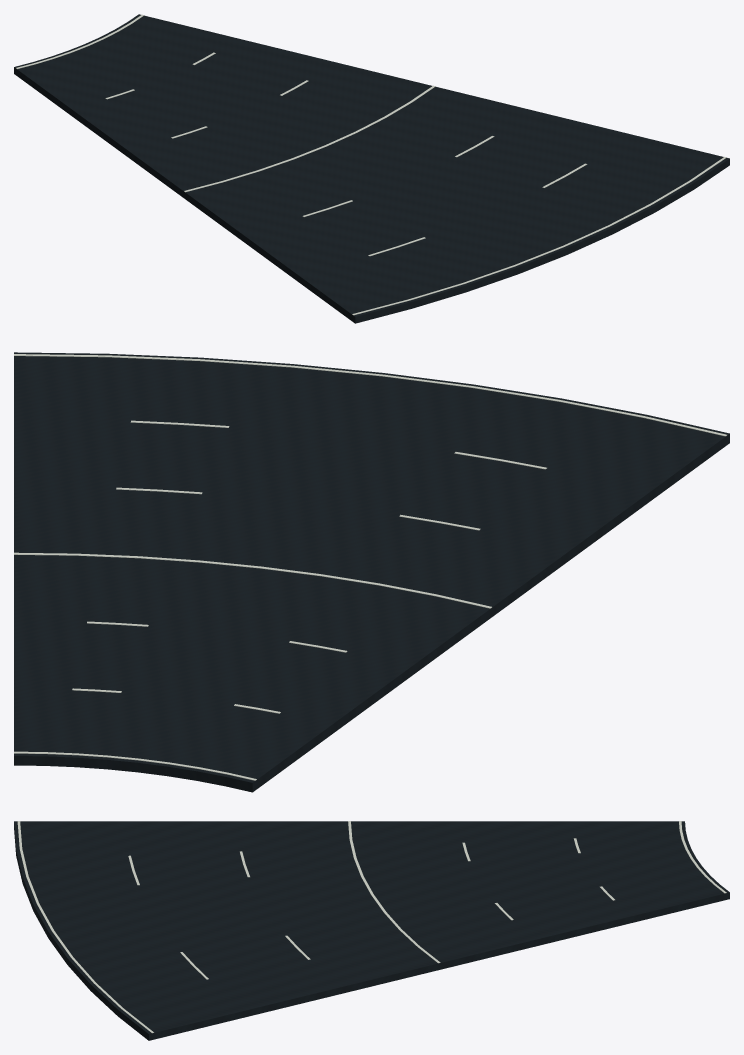
Rendered from Transit_Road_6L_Curve30_R18.glb.
3 views of the same model, one above another, from view 1: azimuth 30°, elevation 25°; view 2: azimuth 150°, elevation 25°; view 3: azimuth 270°, elevation 25° (orthographic). The views are drawn at different scales.
Visible parts, largest first — view 1: Transit_Road_6L_Curve30_R18_Surface, Transit_Road_6L_Curve30_R18_MarkEdge-1, Transit_Road_6L_Curve30_R18_MarkLane3; view 2: Transit_Road_6L_Curve30_R18_Surface, Transit_Road_6L_Curve30_R18_MarkEdge-1, Transit_Road_6L_Curve30_R18_MarkLane3; view 3: Transit_Road_6L_Curve30_R18_Surface, Transit_Road_6L_Curve30_R18_MarkEdge-1, Transit_Road_6L_Curve30_R18_MarkLane3.
Boxes of the visible parts, bbox=[...] form: Transit_Road_6L_Curve30_R18_Surface: bbox=[14, 14, 729, 323]; Transit_Road_6L_Curve30_R18_MarkEdge-1: bbox=[352, 156, 726, 315]; Transit_Road_6L_Curve30_R18_MarkLane3: bbox=[184, 85, 435, 192]; Transit_Road_6L_Curve30_R18_Surface: bbox=[14, 352, 729, 792]; Transit_Road_6L_Curve30_R18_MarkEdge-1: bbox=[14, 354, 726, 436]; Transit_Road_6L_Curve30_R18_MarkLane3: bbox=[14, 552, 491, 608]; Transit_Road_6L_Curve30_R18_Surface: bbox=[14, 821, 729, 1040]; Transit_Road_6L_Curve30_R18_MarkEdge-1: bbox=[17, 821, 153, 1033]; Transit_Road_6L_Curve30_R18_MarkLane3: bbox=[348, 821, 440, 963].
Bounding box in the file's own units: 13.5 × 0.212 × 19.21.
2 materials, 1 textured.
